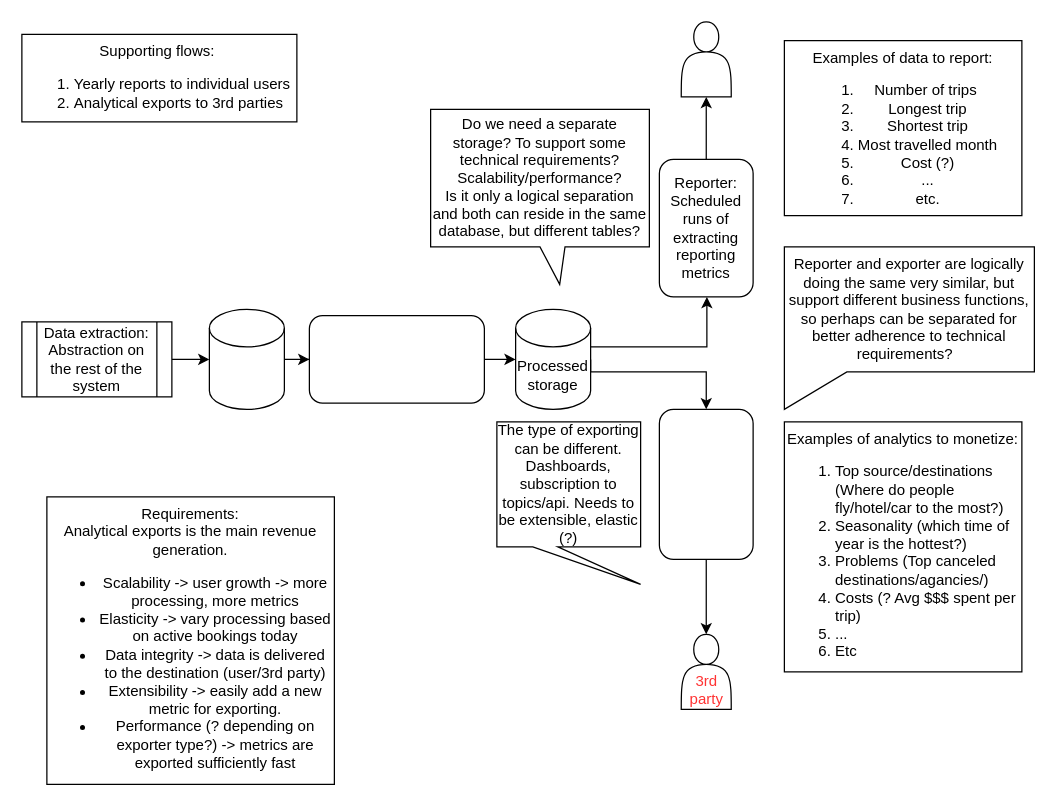
Image size: 1056x809. Some labels were removed from this diagram. The centre of each missing label's shape, as x and y in pixels:
Booking storage: pixel 246 358
Data transformer: transform raw data into clean metrics, (handle data quality): pixel 396 358
Exporter: Scheduled runs of extracting analytical metrics: pixel 705 483
User: pixel 705 59
